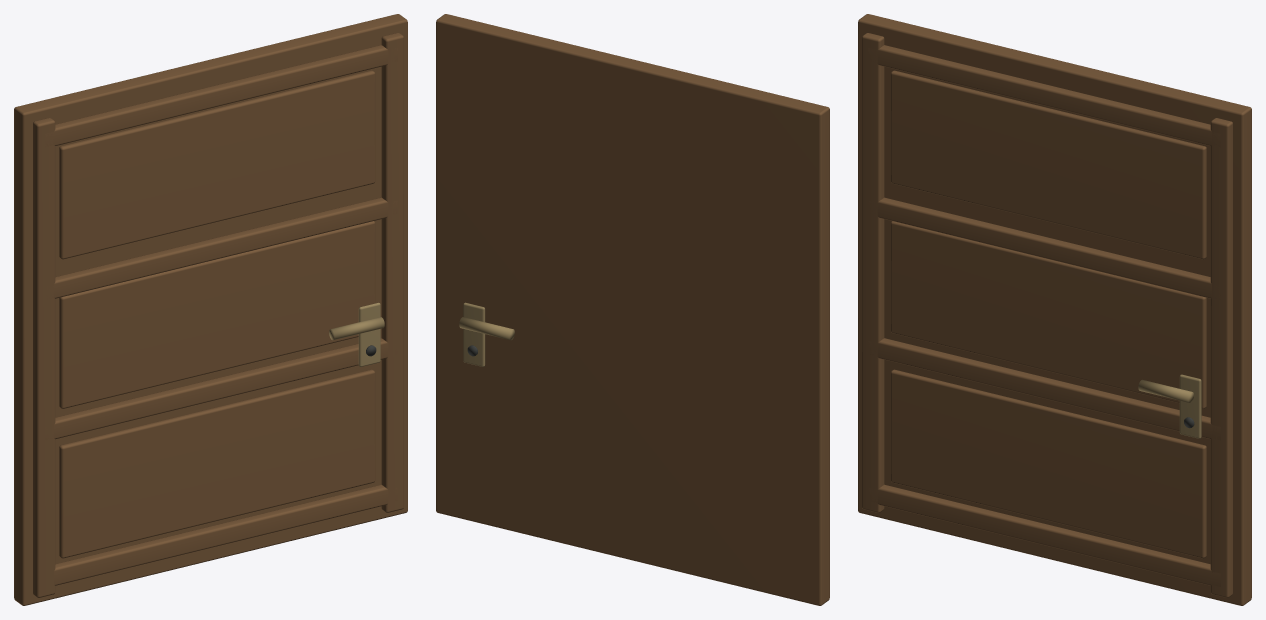
Rendered from door.glb.
3 views of the same model, side by side, from view 1: azimuth 30°, elevation 25°; view 2: azimuth 150°, elevation 25°; view 3: azimuth 330°, elevation 25° (orthographic).
Parts seen in each view (by area): view 1: door; view 2: door; view 3: door.
Boxes of the visible parts, bbox=[...] form: door: bbox=[14, 14, 407, 605]; door: bbox=[436, 14, 829, 605]; door: bbox=[858, 14, 1251, 605].
Bounding box in the file's own units: 2.7 × 3.3 × 0.49.
